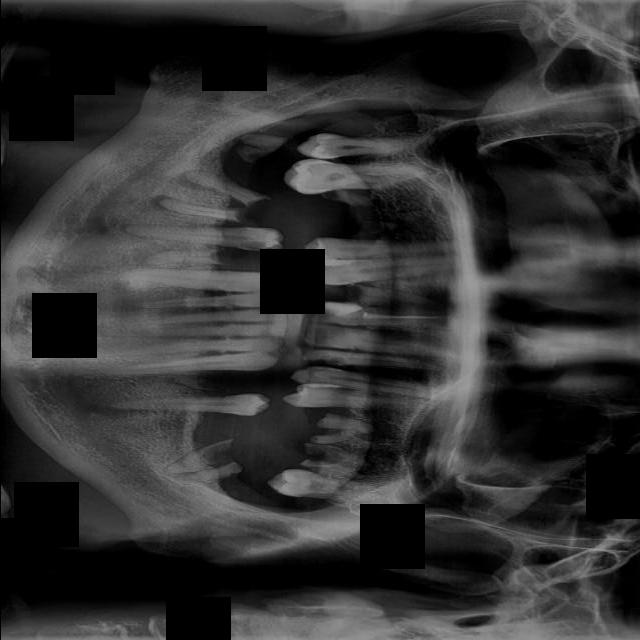72: (184, 163, 271, 215), (164, 436, 241, 482), (298, 441, 372, 476), (347, 284, 438, 312), (157, 197, 247, 224), (145, 249, 234, 267), (322, 182, 375, 211), (184, 461, 243, 486), (317, 412, 374, 435), (239, 129, 287, 153), (234, 142, 273, 167), (310, 428, 361, 447), (172, 375, 220, 393), (360, 218, 400, 236)
74: (363, 312, 446, 324)
Sterngold Implant: (306, 353, 351, 365), (303, 161, 331, 177), (240, 241, 275, 251)
Straumann Implant: (314, 300, 366, 320)
